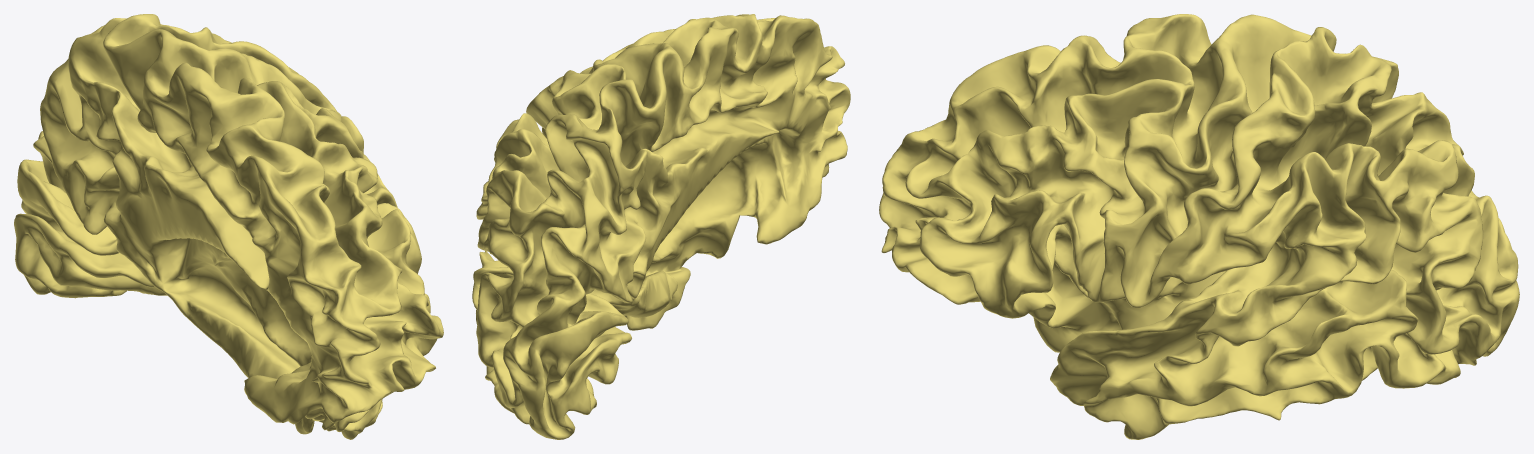
Rendered from white-matter-of-telencephalon-l.glb.
3 views of the same model, side by side, from view 1: azimuth 30°, elevation 25°; view 2: azimuth 150°, elevation 25°; view 3: azimuth 270°, elevation 25° (orthographic). The views are drawn at different scales.
Visible parts, largest first — view 1: White matter of telencephalon.l; view 2: White matter of telencephalon.l; view 3: White matter of telencephalon.l.
Part boxes in pixels (x1,y1,x2,y2): White matter of telencephalon.l: (14,14,443,439); White matter of telencephalon.l: (472,14,850,439); White matter of telencephalon.l: (879,14,1519,439).
Bounding box in the file's own units: 0.0635 × 0.1095 × 0.1749.
